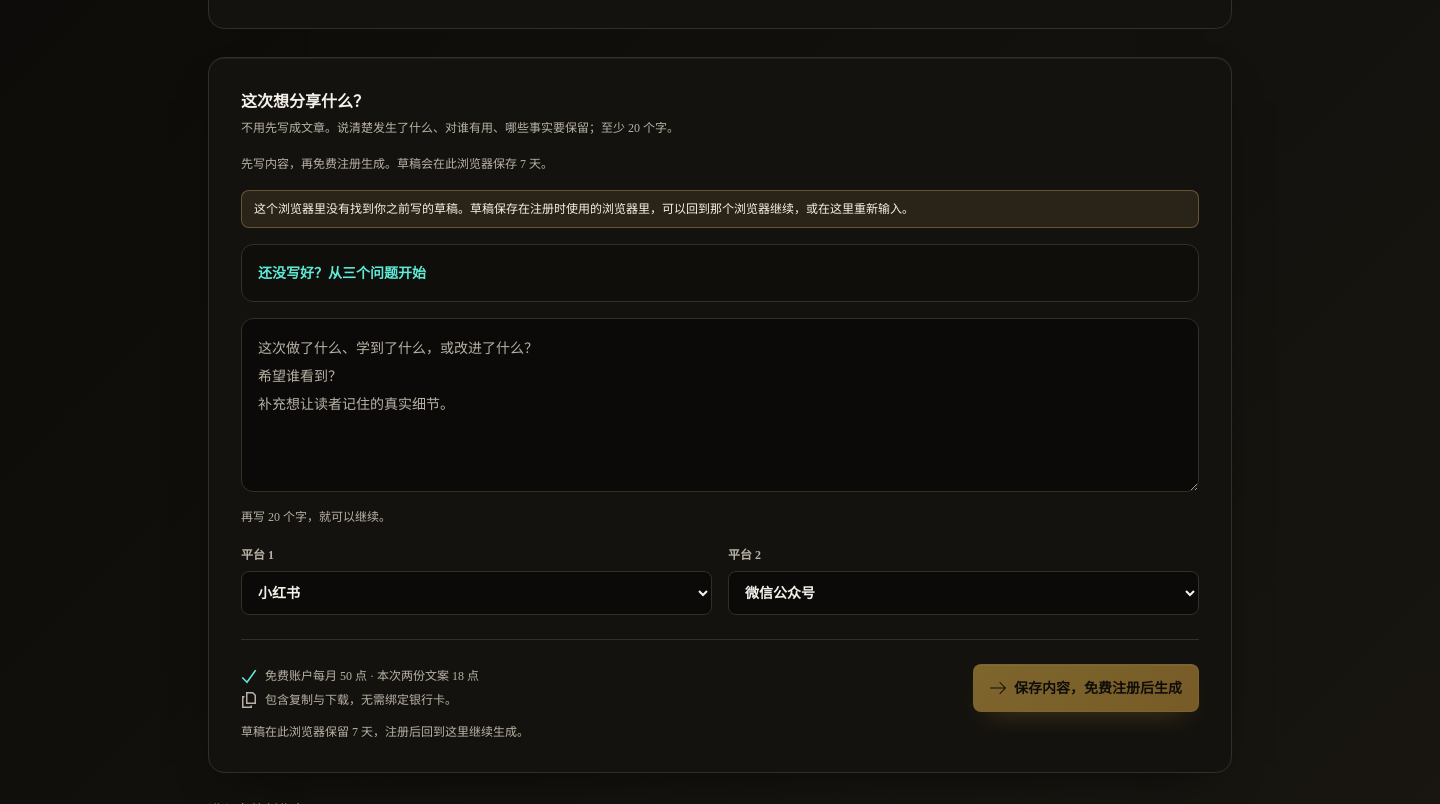
it: first task through authentication › explains where the draft went when the URL's draft isn't in this browser
The width and height of the screenshot is (1440, 804).
(page scrolled)
Expected: the text "这个浏览器里没有找到你之前写的草稿。草稿保存在注册时使用的浏览器里，可以回到那个浏览器继续，或在这里重新输入。" is shown, 241,190 -> 1199,228
Step 1. Type "这是我们本周推出的真实产品更新，请为独立开发者整理成两份可发布的内容。" into the text box labelled "这次想分享什么？" → (720, 405), box 241,318 -> 1199,492
(page scrolled)
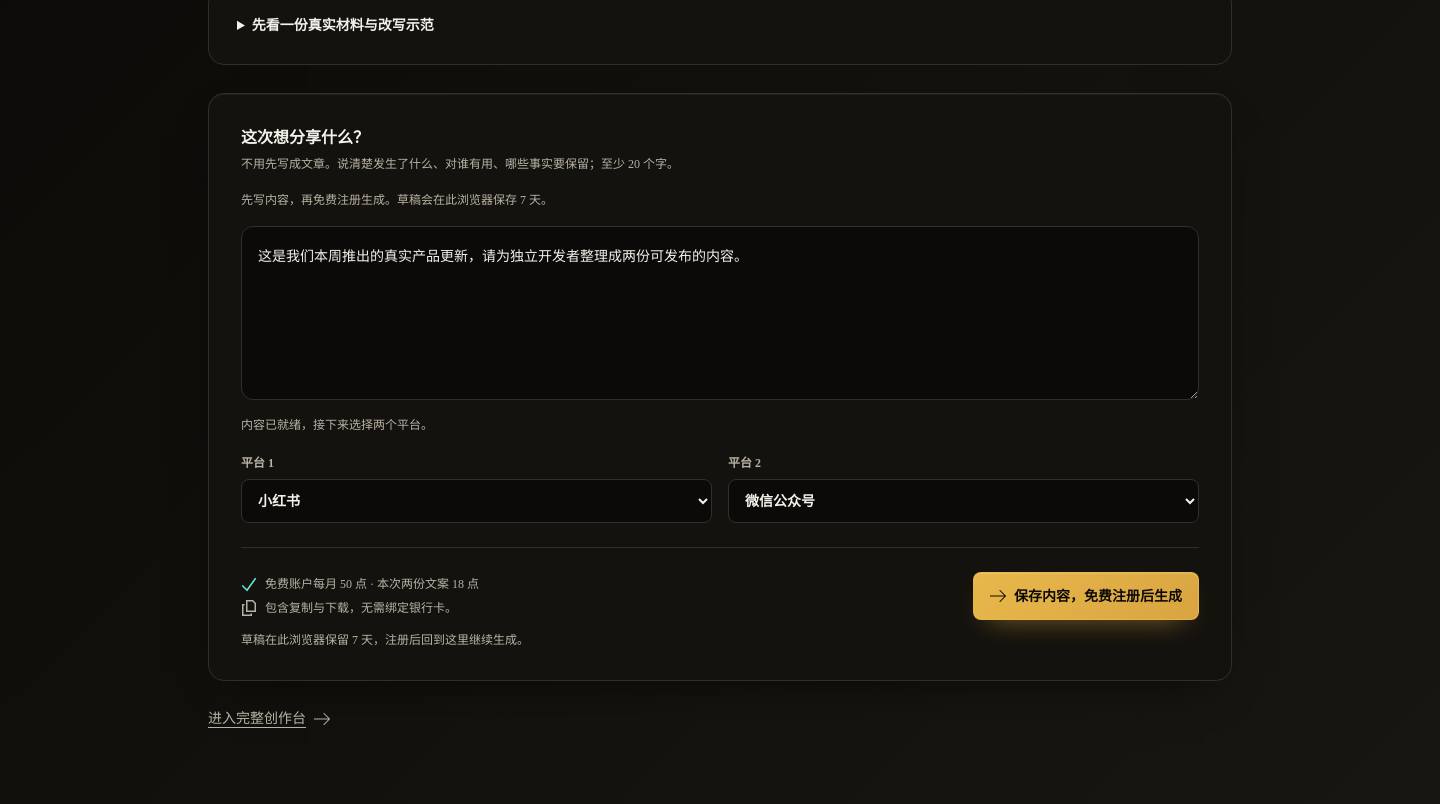
Result: the text "草稿保存在注册时使用的浏览器里" is gone
